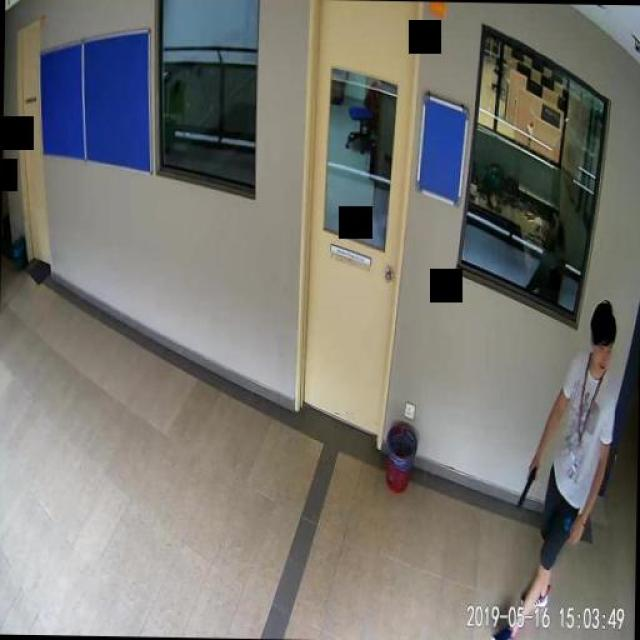gun: (516, 459, 539, 506)
